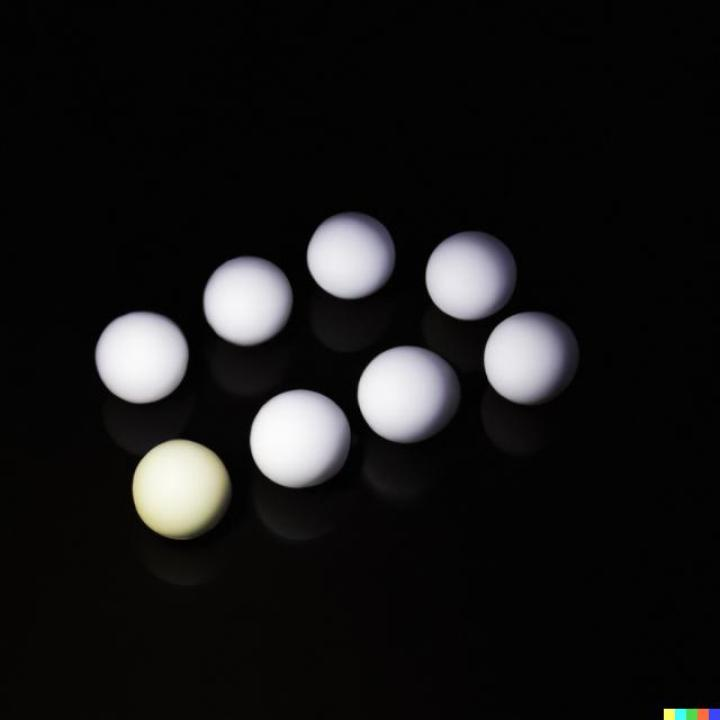white: (132, 440, 231, 540), (359, 347, 460, 444), (249, 391, 349, 488), (94, 312, 188, 404), (486, 312, 580, 404), (203, 256, 294, 346), (426, 230, 516, 320), (306, 212, 394, 300)
